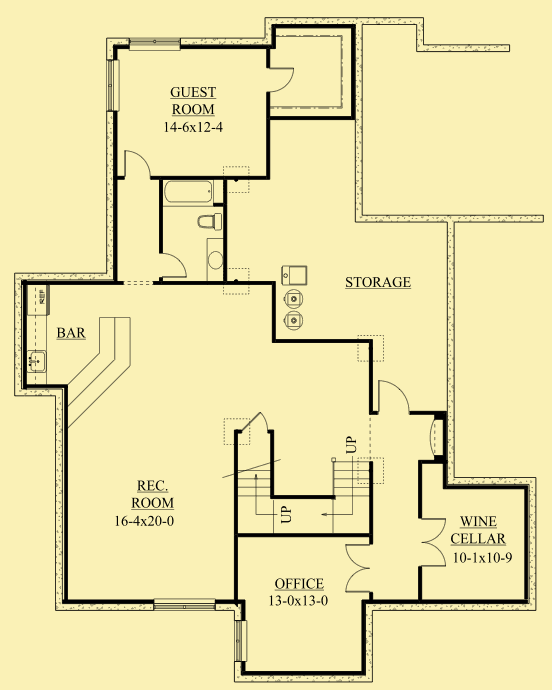door: (342, 541, 371, 599), (417, 515, 447, 571), (377, 377, 411, 414), (120, 149, 158, 181), (264, 64, 296, 95), (156, 250, 186, 283)
large_sink: (192, 211, 224, 234)
sink: (22, 348, 50, 376)
small_sink: (202, 237, 226, 284)
stairs: (230, 455, 373, 535)
tub: (160, 177, 216, 208)
window: (126, 31, 185, 54), (150, 596, 216, 615), (231, 616, 252, 666), (106, 59, 123, 113)
